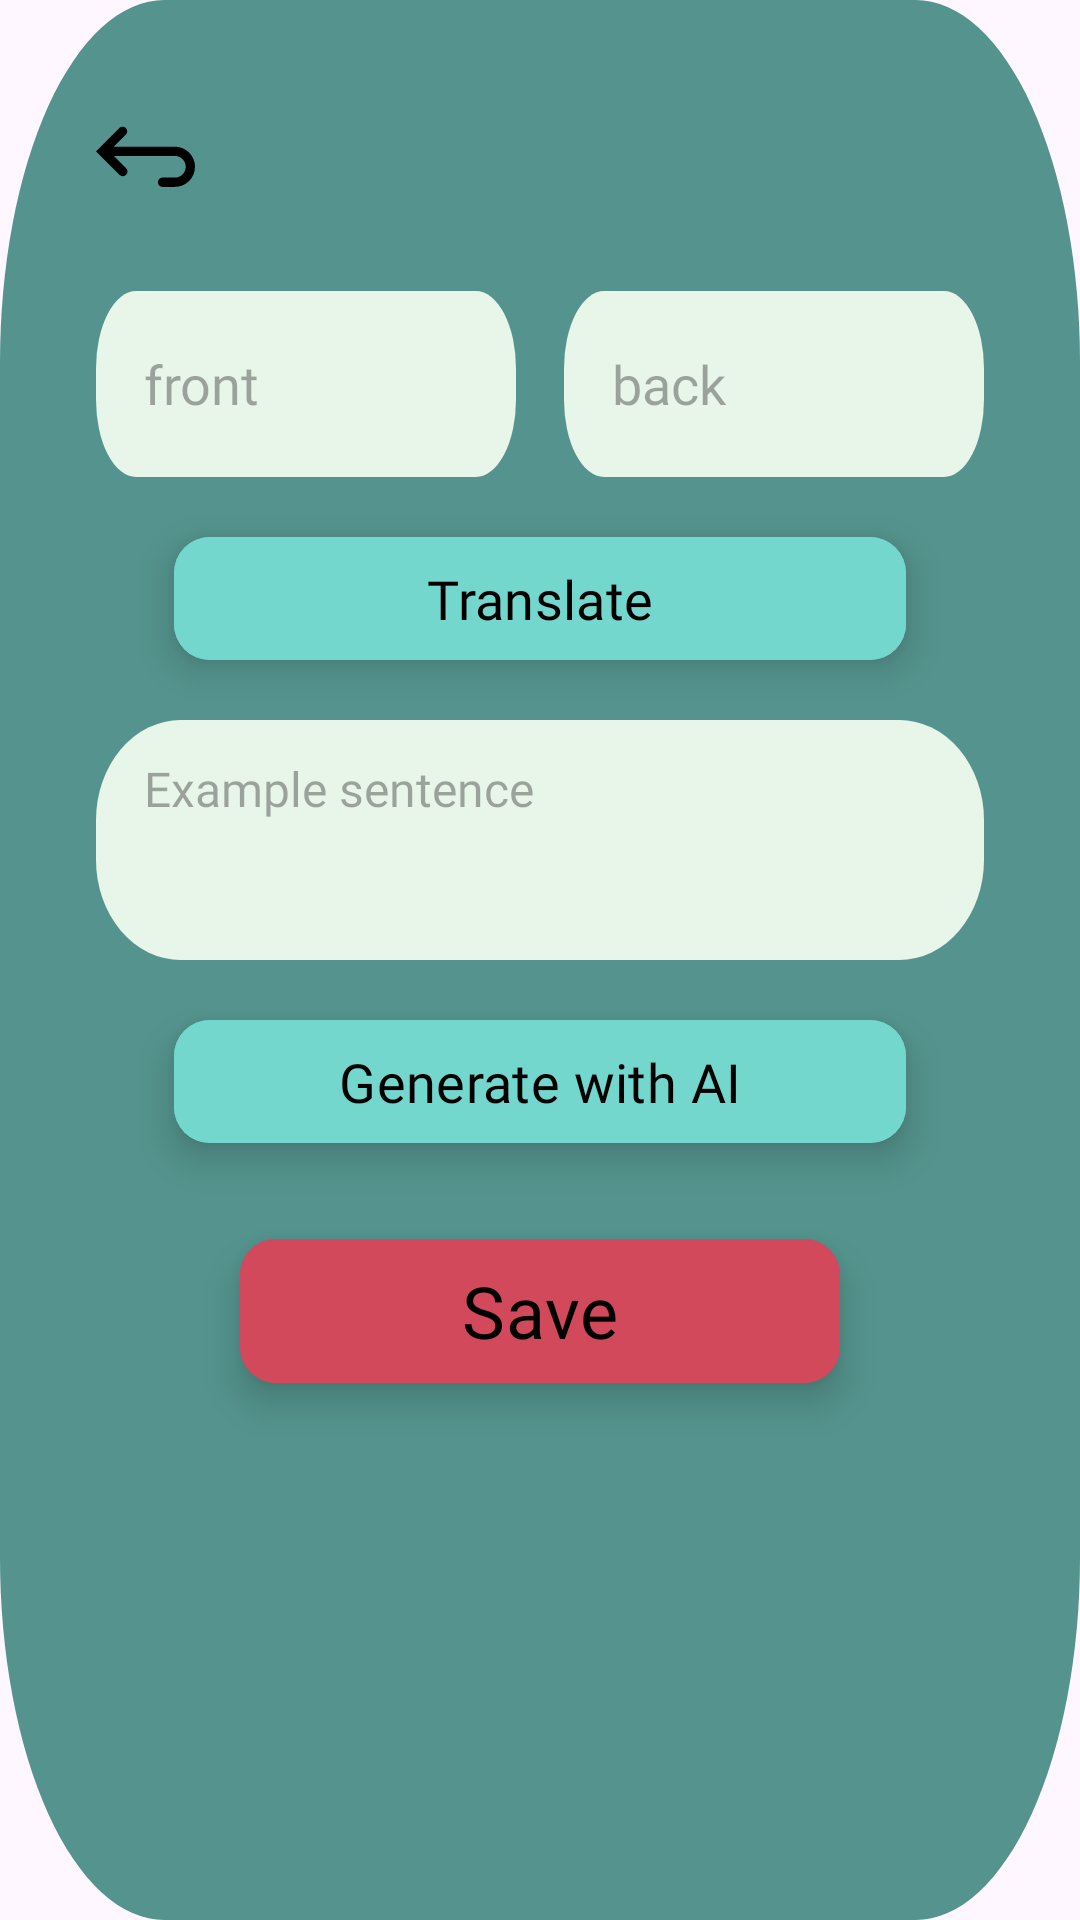

Screen size 1080px×1920px. Icon name, then its box in pixels as {"left": x1, "top": y1, "right": x2, "bottom": y2}:
back: {"left": 96, "top": 126, "right": 195, "bottom": 187}
